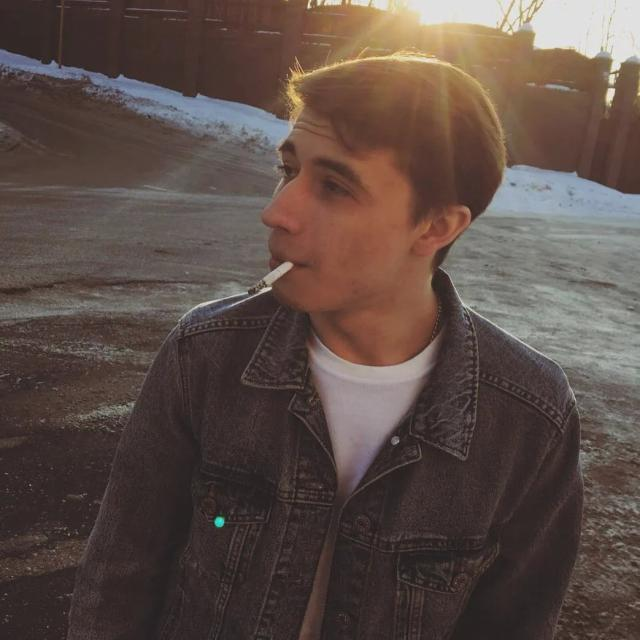smoke: (246, 259, 298, 298)
